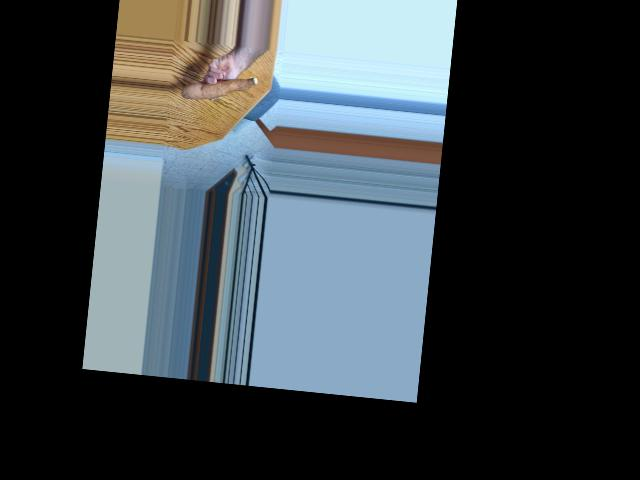sweet_potato: (183, 69, 256, 110)
